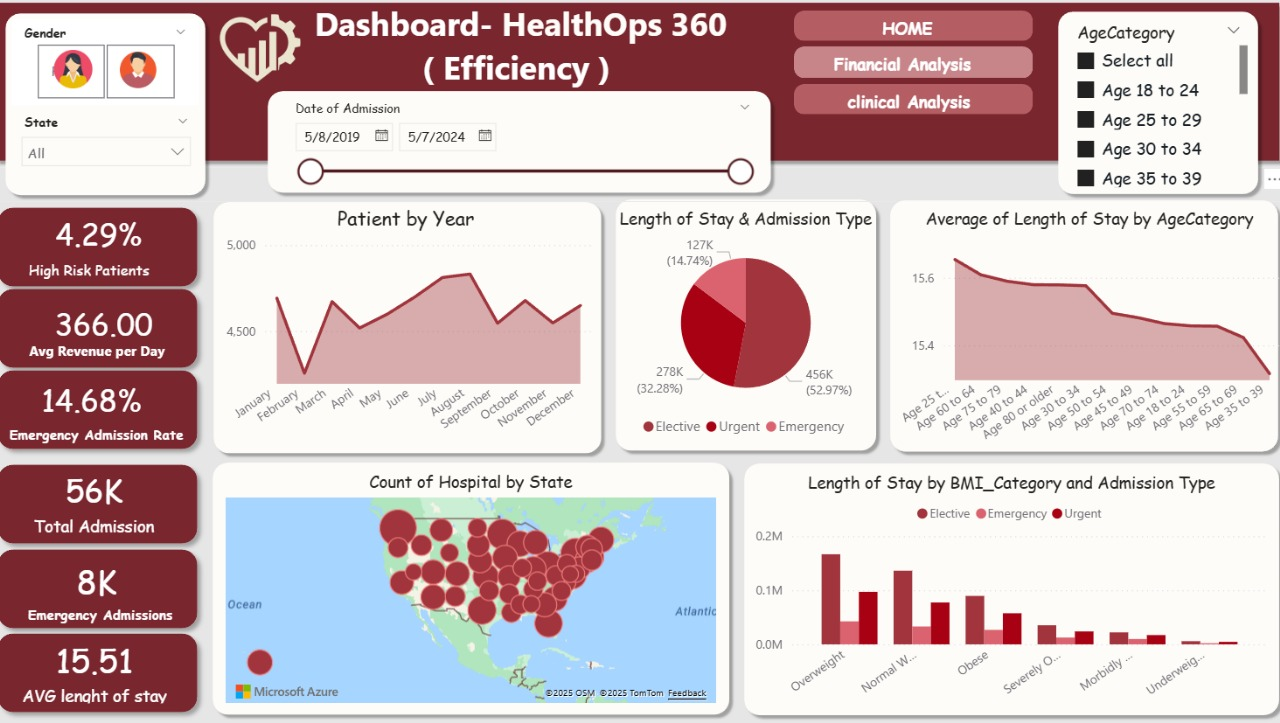

The dashboard page shown, as its layout file describes it:
{"tool":"powerbi","page":{"name":"Duplicate of Efficiency","canvas":[1280,720],"ordinal":2},"visuals":[{"type":"shape","box":[0,620.2,214.8,95.7],"z":0},{"type":"shape","box":[0,0,1280.2,169.8],"z":1000,"group":"g1"},{"type":"shape","box":[-0.4,200.2,214.8,95.7],"z":1000},{"type":"shape","box":[1048,8.6,211.3,194.1],"z":2000,"group":"g1"},{"type":"shape","box":[-0.4,280.4,214.8,95.7],"z":2000},{"type":"shape","box":[9.4,10.4,211.3,193.4],"z":3000,"group":"g1"},{"type":"shape","box":[-0.4,360.6,214.8,95.7],"z":3000},{"type":"shape","box":[0,453.7,214.8,95.7],"z":4000},{"type":"slicer","fields":{"Values":["الجدول2_3.Sex"]},"box":[22.4,23.3,184.6,84.5],"z":5000,"group":"g1"},{"type":"shape","box":[0,537.4,214.8,95.7],"z":5000},{"type":"textbox","box":[302.7,0,444.2,97.5],"z":6000,"group":"g1"},{"type":"cardVisual","fields":{"Data":["الجدول2_3.AVG lenght of stay"]},"box":[0.9,620.2,207,95.7],"z":6000},{"type":"shape","box":[794.3,14.3,235.7,30],"z":7000,"group":"g1"},{"type":"shape","box":[213.8,453.8,523.8,262.5],"z":7000},{"type":"shape","box":[794.3,87.1,235.7,30],"z":8000,"group":"g1"},{"type":"azureMap","fields":{"Category":["الجدول2_3.State"],"Size":["CountNonNull(الجدول2_3.Hospital)"]},"box":[228.6,467.5,494.2,235.5],"z":8000},{"type":"shape","box":[794.3,50,235.7,31.4],"z":9000,"group":"g1"},{"type":"shape","box":[738.3,454.6,541.7,262.2],"z":9000},{"type":"textbox","box":[820,14.3,178.6,35.7],"z":10000,"group":"g1"},{"type":"shape","box":[794.4,117.3,235.5,31.1],"z":10000},{"type":"textbox","box":[800.4,87.1,214.8,41.4],"z":11000,"group":"g1"},{"type":"cardVisual","fields":{"Data":["الجدول2_3.emergency admissions"]},"box":[0,536.5,228.6,95.7],"z":11000},{"type":"textbox","box":[794.4,50,213.9,37.1],"z":12000,"group":"g1"},{"type":"cardVisual","fields":{"Data":["الجدول2_3.total admission"]},"box":[15.5,450.2,192.3,99.2],"z":12000},{"type":"slicer","fields":{"Values":["الجدول2_3.AgeCategory"]},"box":[1060.9,19,186.3,175.1],"z":13000,"group":"g1"},{"type":"cardVisual","fields":{"Data":["الجدول2_3.e_-a_rate"]},"box":[22.9,366.7,183.7,63],"z":13000},{"type":"textbox","box":[8.3,418.4,189.8,34.5],"z":14000},{"type":"cardVisual","fields":{"Data":["الجدول2_3.High Risk Patients %"]},"box":[36.7,195.9,157,77.6],"z":15000},{"type":"textbox","box":[34.1,256.3,138,34.5],"z":16000},{"type":"shape","box":[215.1,196.5,396.5,261.6],"z":17000},{"type":"areaChart","title":"Count of Patient by Year","fields":{"Category":["الجدول2_3.Date of Admission.Variation.Date Hierarchy.Month","الجدول2_3.Discharge Date.Variation.Date Hierarchy.Month"],"Y":["CountNonNull(الجدول2_3.PatientID)"]},"box":[223.8,206.2,376.2,243.8],"z":18000},{"type":"cardVisual","fields":{"Data":["الجدول2_3.Avg Revenue per Day"]},"box":[36.2,291.5,162.2,62.1],"z":19000},{"type":"slicer","fields":{"Values":["الجدول2_3.State"]},"box":[22.6,111.3,186.8,72.6],"z":20000,"group":"g1"},{"type":"shape","box":[611.6,194.2,270.9,261.6],"z":20000},{"type":"pieChart","title":"Relation between  Length of Stay & Admission Type","fields":{"Category":["الجدول2_3.Admission Type"],"Y":["Sum(الجدول2_3.Length of Stay)"]},"box":[625,208.8,248.8,236.2],"z":21000},{"type":"group","id":"g1","title":"Group 1","box":[0,0,1280.2,203.7],"z":22000},{"type":"shape","box":[267.9,86.8,510.3,114.1],"z":22000,"group":"g1"},{"type":"shape","box":[882.6,195.3,396.5,261.6],"z":23000},{"type":"slicer","fields":{"Values":["الجدول2_3.Date of Admission"]},"box":[290,97.5,473.8,97.5],"z":24000,"group":"g1"},{"type":"areaChart","fields":{"Y":["Avg(الجدول2_3.Length of Stay)"],"Category":["الجدول2_3.AgeCategory"]},"box":[892.5,207.5,386.2,242.5],"z":24000},{"type":"textbox","box":[35,336.2,138.8,35],"z":25000},{"type":"clusteredColumnChart","title":"Length of Stay by BMI_Category and Admission Type","fields":{"Category":["Data.BMI_Category"],"Y":["Sum(Data.Length of Stay)"],"Series":["Data.Admission Type"]},"box":[751.3,468.4,515.8,234.6],"z":26000},{"type":"image","box":[216.5,13.8,102.6,88],"z":27000},{"type":"image","box":[48.3,53.5,70.7,38],"z":28000},{"type":"image","box":[110.4,55.2,73.3,36.2],"z":29000}]}

Visuals, with their boxes in screenshot pixels (x1, y1, x2, y2), scaled from the page's 1280x720 canvas onto the 1280x723 screenshot:
shape: <bbox>0, 623, 215, 719</bbox>
shape: <bbox>0, 0, 1279, 171</bbox>
shape: <bbox>0, 201, 214, 297</bbox>
shape: <bbox>1048, 9, 1259, 204</bbox>
shape: <bbox>0, 282, 214, 378</bbox>
shape: <bbox>9, 10, 221, 205</bbox>
shape: <bbox>0, 362, 214, 458</bbox>
shape: <bbox>0, 456, 215, 552</bbox>
slicer - الجدول2_3.Sex: <bbox>22, 23, 207, 108</bbox>
shape: <bbox>0, 540, 215, 636</bbox>
textbox: <bbox>303, 0, 747, 98</bbox>
cardVisual - الجدول2_3.AVG lenght of stay: <bbox>1, 623, 208, 719</bbox>
shape: <bbox>794, 14, 1030, 44</bbox>
shape: <bbox>214, 456, 738, 719</bbox>
shape: <bbox>794, 87, 1030, 118</bbox>
azureMap - الجدول2_3.State x CountNonNull(الجدول2_3.Hospital): <bbox>229, 469, 723, 706</bbox>
shape: <bbox>794, 50, 1030, 82</bbox>
shape: <bbox>738, 456, 1279, 720</bbox>
textbox: <bbox>820, 14, 999, 50</bbox>
shape: <bbox>794, 118, 1030, 149</bbox>
textbox: <bbox>800, 87, 1015, 129</bbox>
cardVisual - الجدول2_3.emergency admissions: <bbox>0, 539, 229, 635</bbox>
textbox: <bbox>794, 50, 1008, 87</bbox>
cardVisual - الجدول2_3.total admission: <bbox>16, 452, 208, 552</bbox>
slicer - الجدول2_3.AgeCategory: <bbox>1061, 19, 1247, 195</bbox>
cardVisual - الجدول2_3.e_-a_rate: <bbox>23, 368, 207, 431</bbox>
textbox: <bbox>8, 420, 198, 455</bbox>
cardVisual - الجدول2_3.High Risk Patients %: <bbox>37, 197, 194, 275</bbox>
textbox: <bbox>34, 257, 172, 292</bbox>
shape: <bbox>215, 197, 612, 460</bbox>
"Count of Patient by Year" areaChart: <bbox>224, 207, 600, 452</bbox>
cardVisual - الجدول2_3.Avg Revenue per Day: <bbox>36, 293, 198, 355</bbox>
slicer - الجدول2_3.State: <bbox>23, 112, 209, 185</bbox>
shape: <bbox>612, 195, 882, 458</bbox>
"Relation between  Length of Stay & Admission Type" pieChart: <bbox>625, 210, 874, 447</bbox>
"Group 1" group: <bbox>0, 0, 1279, 205</bbox>
shape: <bbox>268, 87, 778, 202</bbox>
shape: <bbox>883, 196, 1279, 459</bbox>
slicer - الجدول2_3.Date of Admission: <bbox>290, 98, 764, 196</bbox>
areaChart - Avg(الجدول2_3.Length of Stay) x الجدول2_3.AgeCategory: <bbox>892, 208, 1279, 452</bbox>
textbox: <bbox>35, 338, 174, 373</bbox>
"Length of Stay by BMI_Category and Admission Type" clusteredColumnChart: <bbox>751, 470, 1267, 706</bbox>
image: <bbox>216, 14, 319, 102</bbox>
image: <bbox>48, 54, 119, 92</bbox>
image: <bbox>110, 55, 184, 92</bbox>
